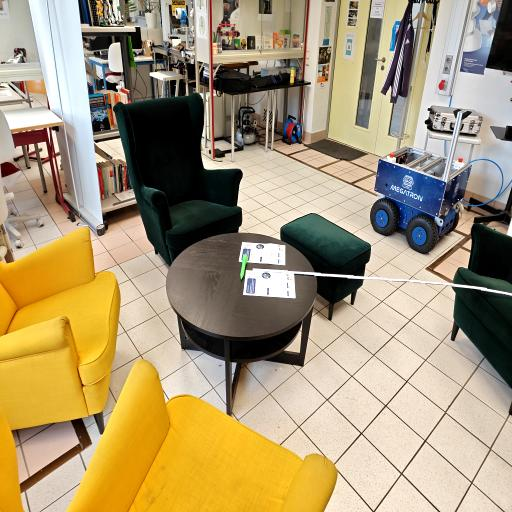Probe-Detection: (240, 254, 247, 280)
